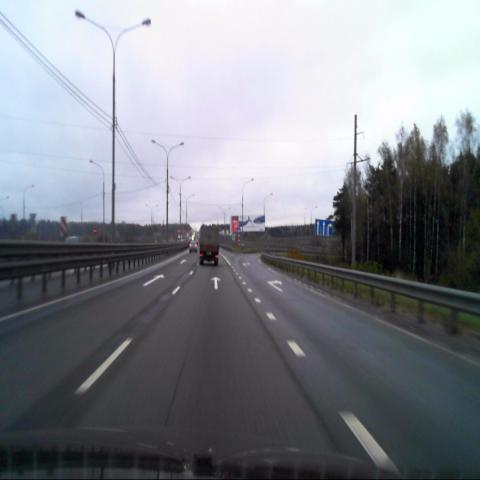5_15_1: (315, 219, 333, 236)
